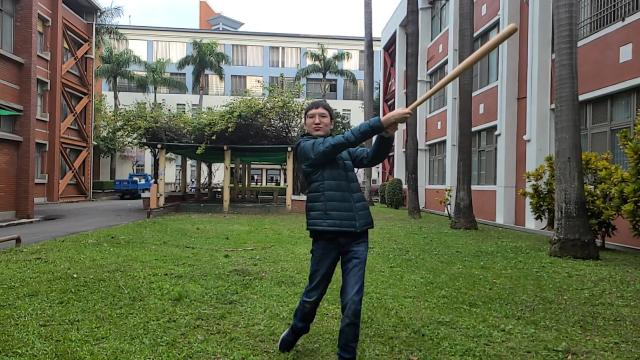bat: (408, 22, 518, 112)
